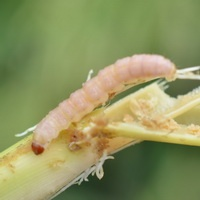insect: (0, 54, 199, 199)
